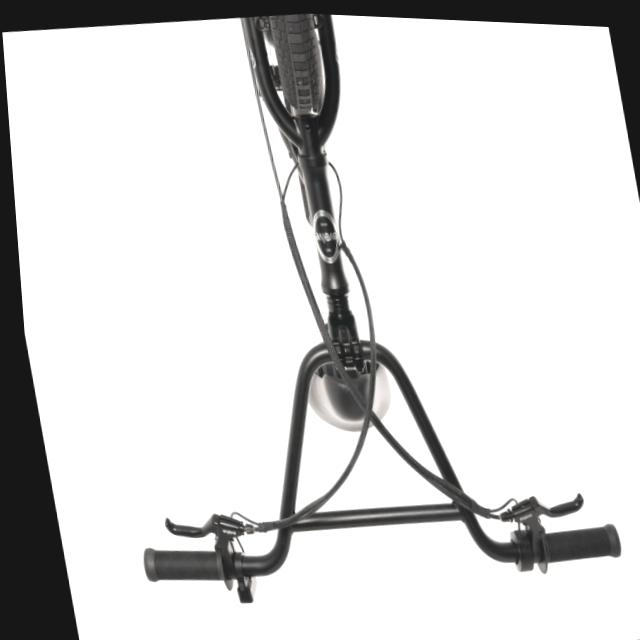bmx-bike: (37, 1, 627, 629)
